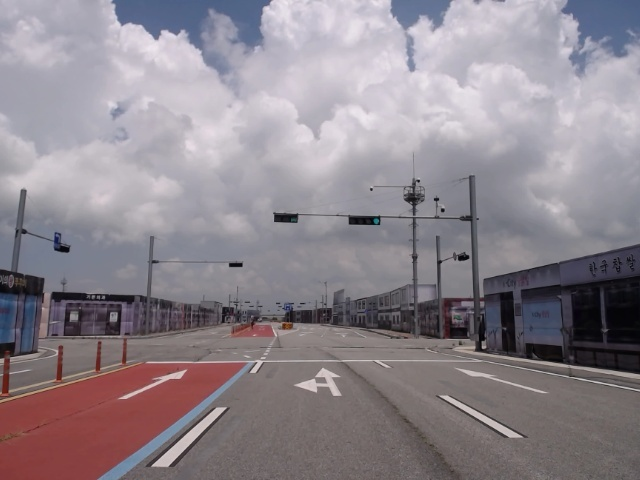straight_green_4: (349, 217, 381, 225)
